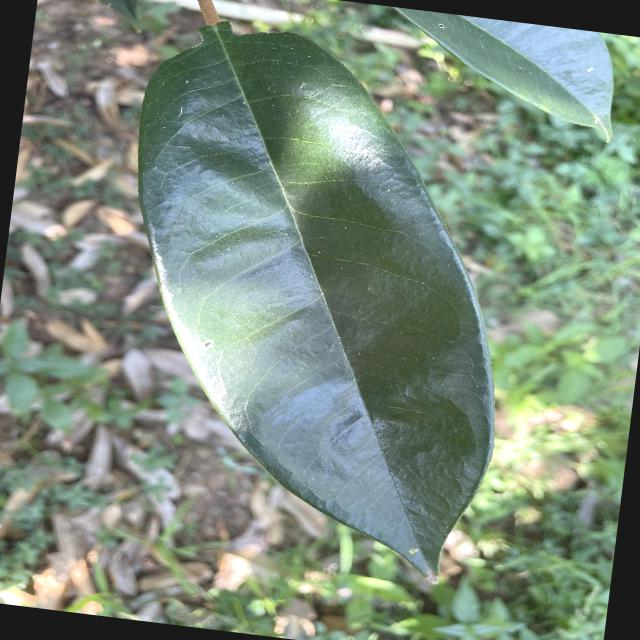No Disease: (78, 1, 552, 601)
